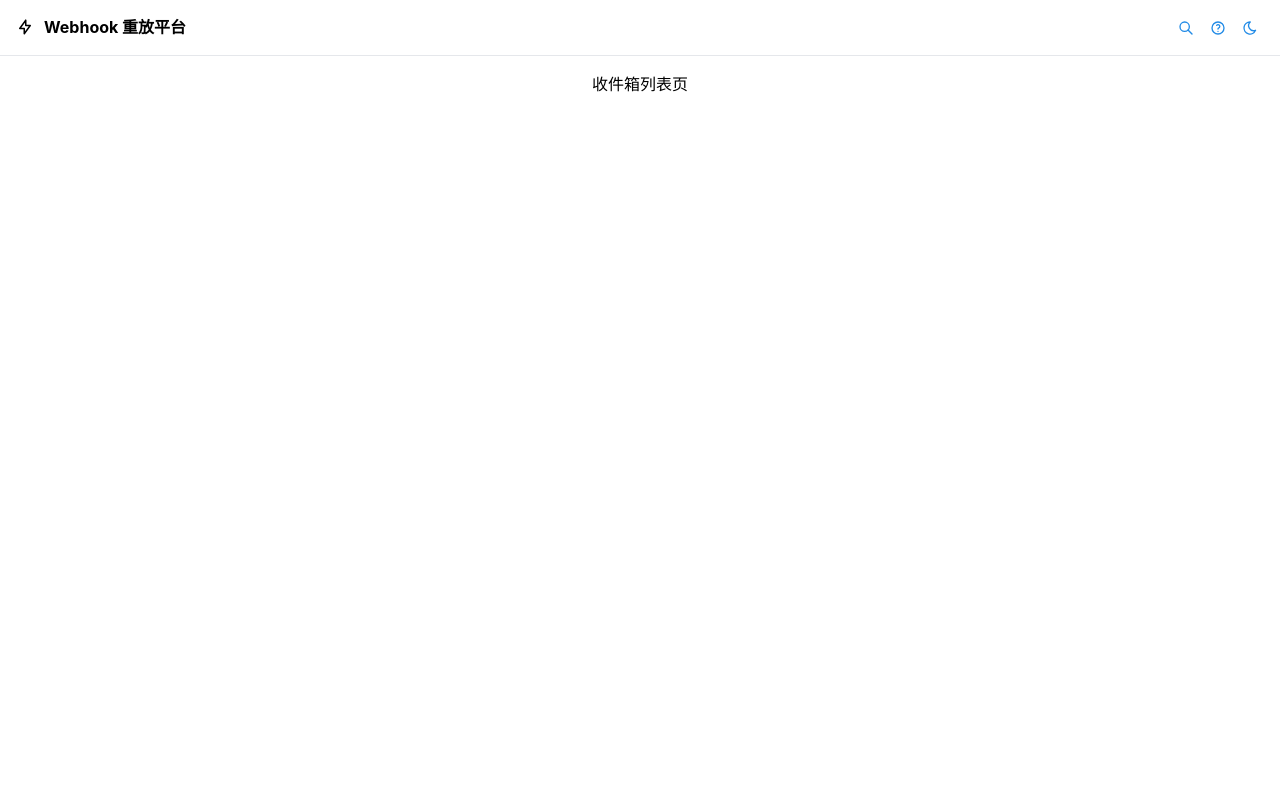
Scenario: Layout command palette › says so when nothing matches
The width and height of the screenshot is (1280, 800).
Type keys "{Control>}k{/Control}"
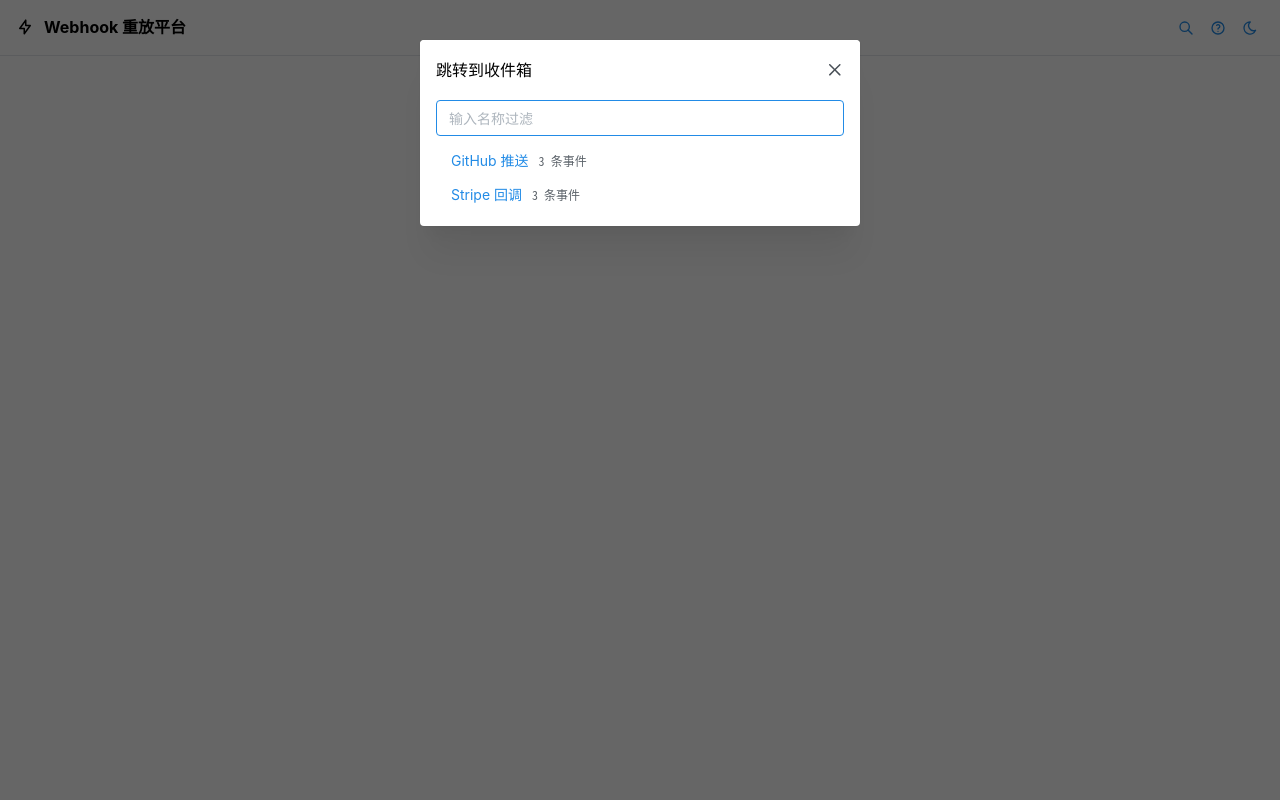
Type "zzz" into the field labelled "输入名称过滤". click: (640, 118)
box: [436, 100, 844, 136]
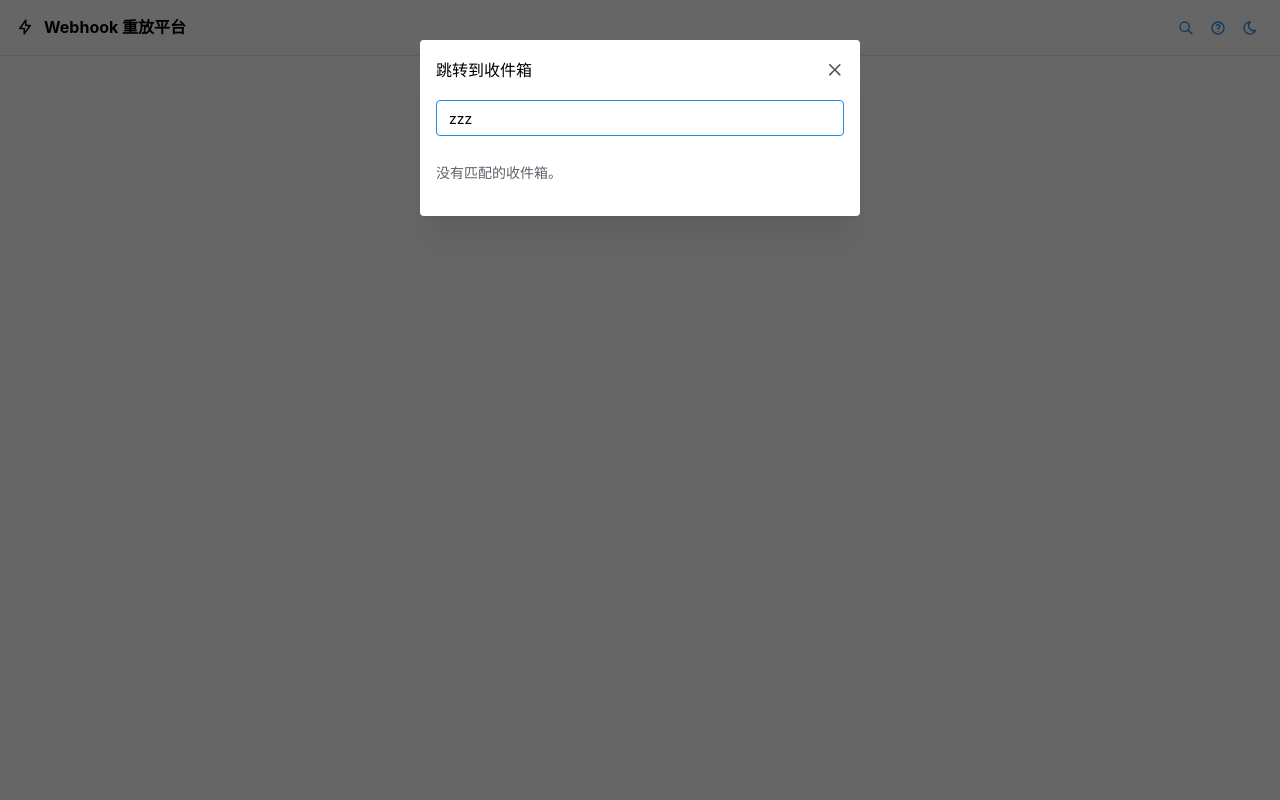
Now the text "没有匹配的收件箱。" is shown, box [436, 164, 562, 181]
